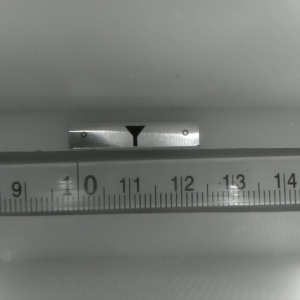0: (83, 175, 97, 194)
1: (63, 176, 73, 195), (133, 177, 140, 192), (223, 174, 230, 189), (274, 172, 280, 189), (119, 177, 125, 193), (170, 176, 176, 191)
2: (184, 175, 193, 191)
3: (235, 174, 245, 189)
4: (286, 172, 297, 188)
9: (11, 180, 21, 197)
finger: (123, 125, 145, 147)
